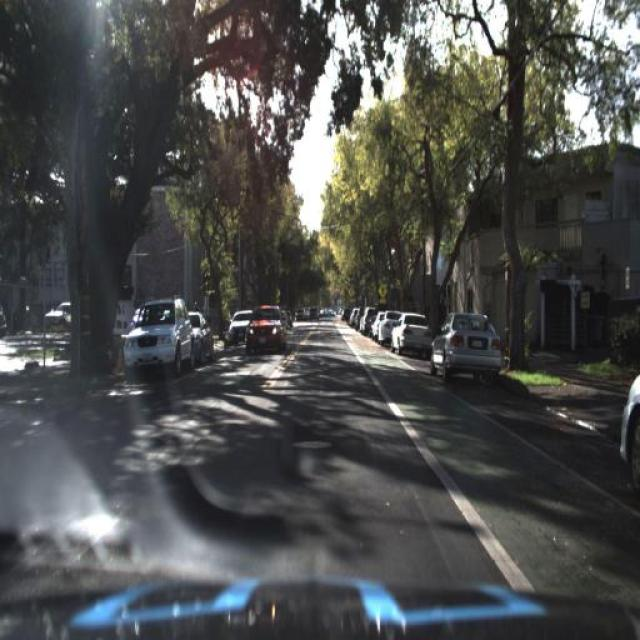car: (429, 302, 509, 392), (124, 296, 192, 374), (428, 312, 504, 372), (239, 303, 290, 357), (388, 304, 434, 355), (245, 304, 289, 351), (184, 302, 216, 366), (186, 304, 217, 368), (386, 310, 429, 356)
